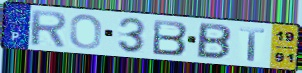3: (116, 17, 148, 54)
B: (195, 21, 234, 62), (151, 18, 190, 57)
O: (68, 13, 104, 51)
R: (29, 9, 69, 49)
T: (239, 26, 268, 63)
